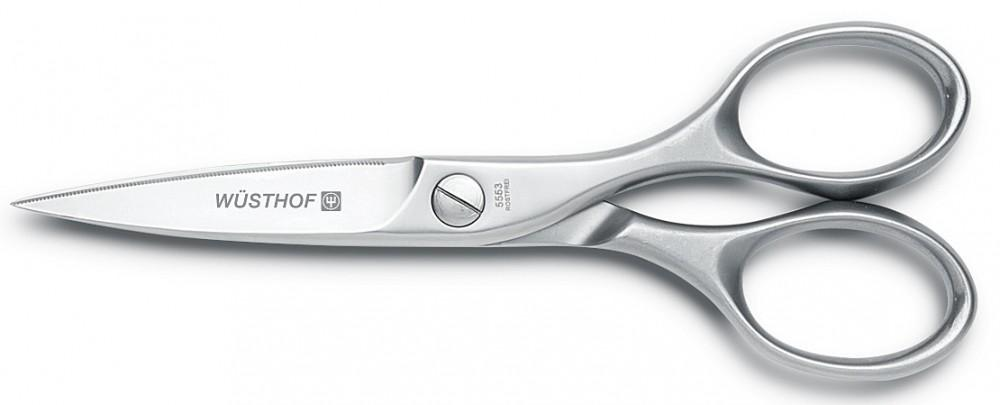scissor: (88, 54, 1000, 338)
